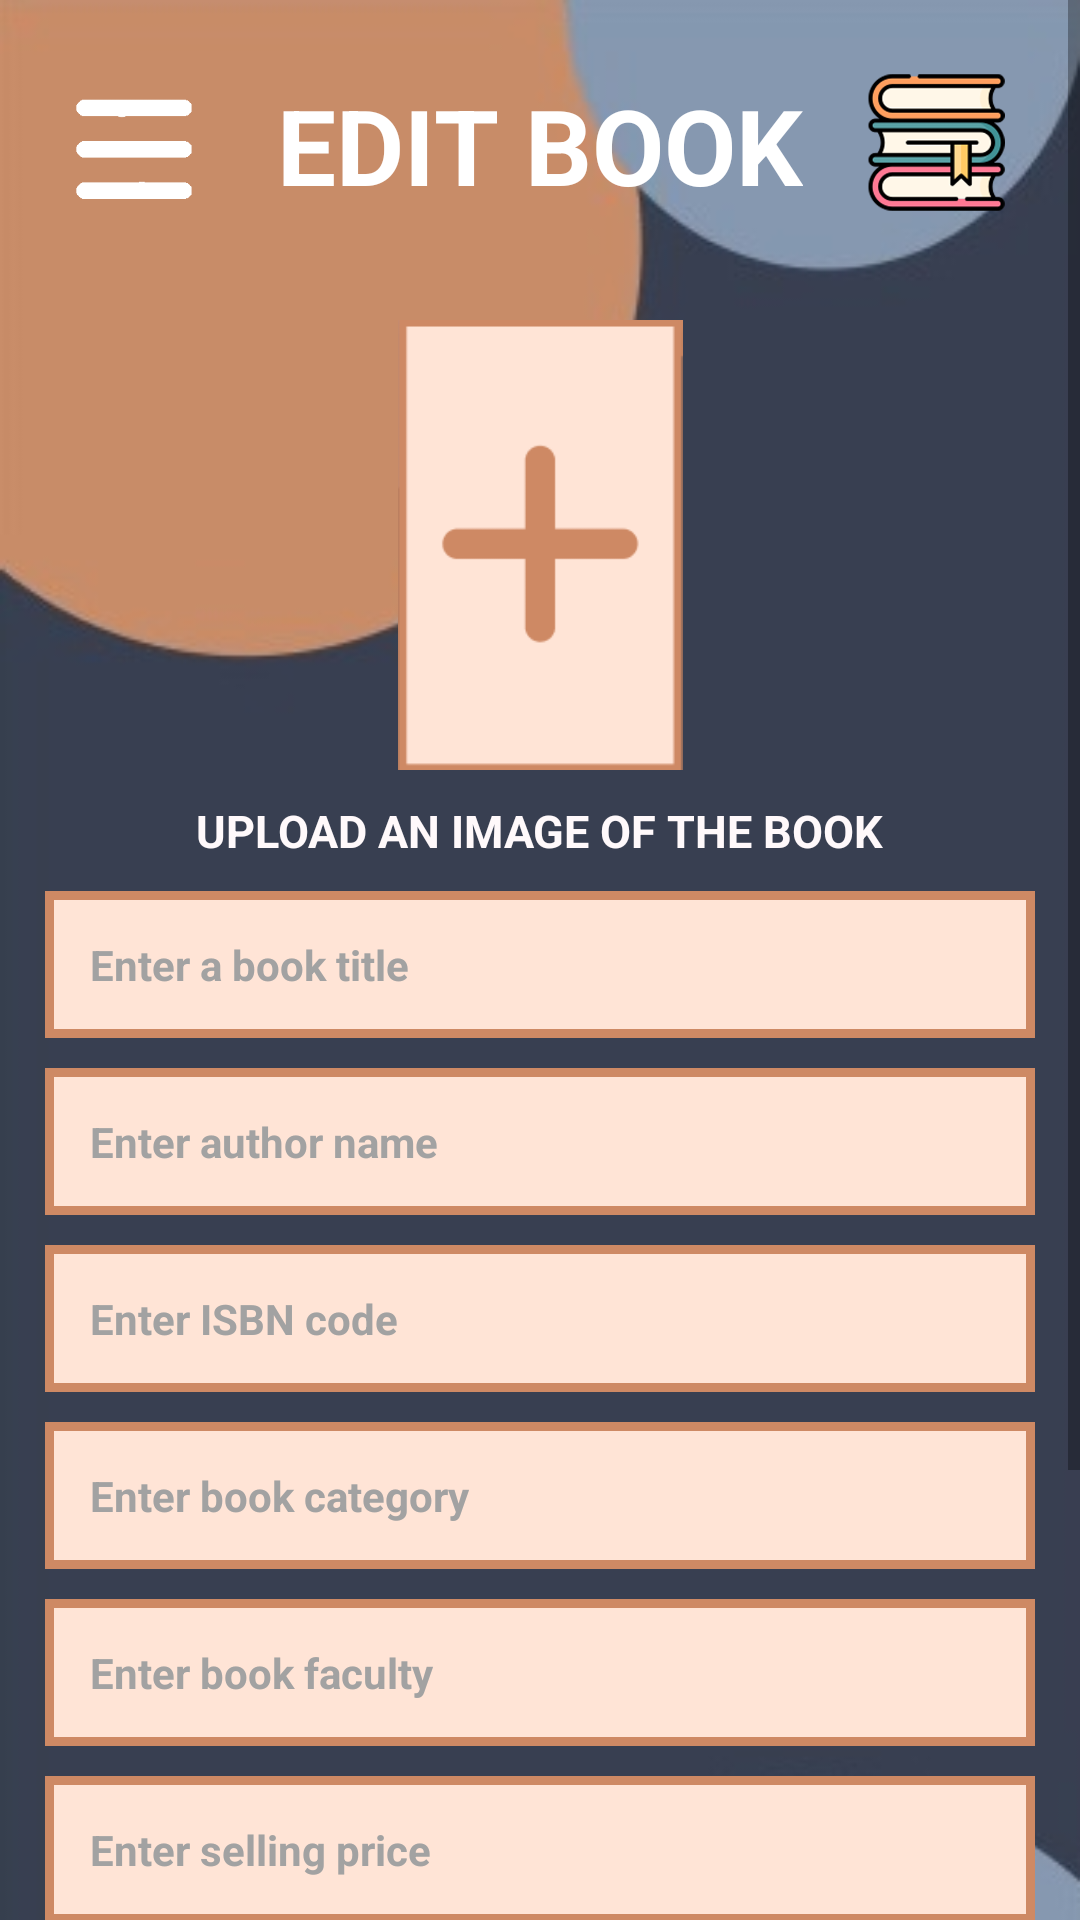

Point at icon controls on the screen. Image size 1080×1920, points as point (x, y).
menuwhite: point (134, 149)
